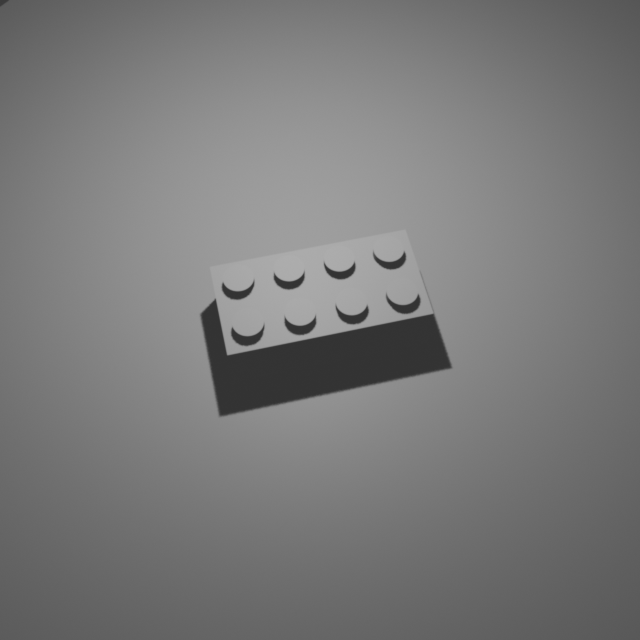lego_2x4: (209, 224, 435, 383)
